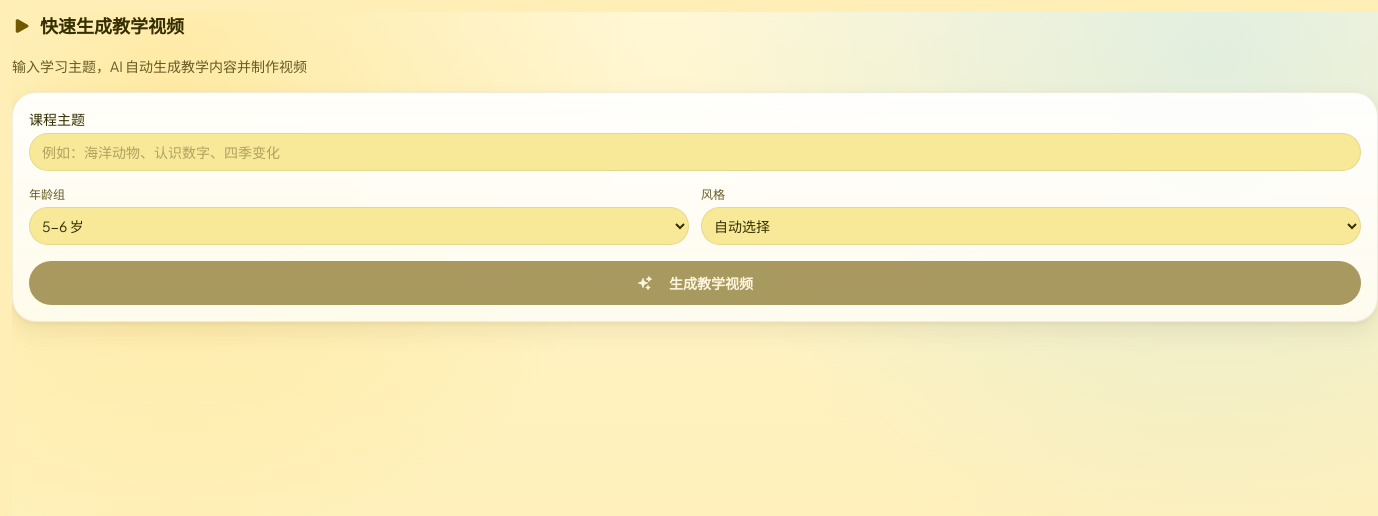
Test: QuickVideoGenerator state machine › enables submit when topic entered and child selected
Type "海洋动物" into the field with placeholder "例如：海洋动物、认识数字、四季变化".
click(695, 152); type("海洋动物")  # box left=29, top=133, right=1361, bottom=171
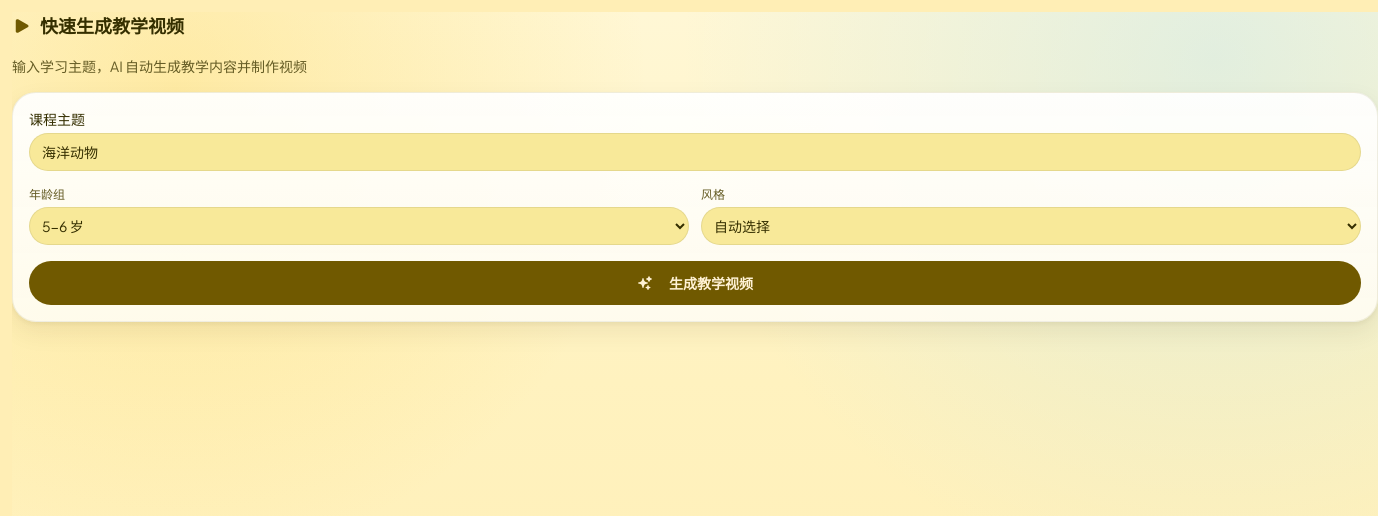
Check: the button "生成教学视频" is enabled, box left=29, top=261, right=1361, bottom=305
